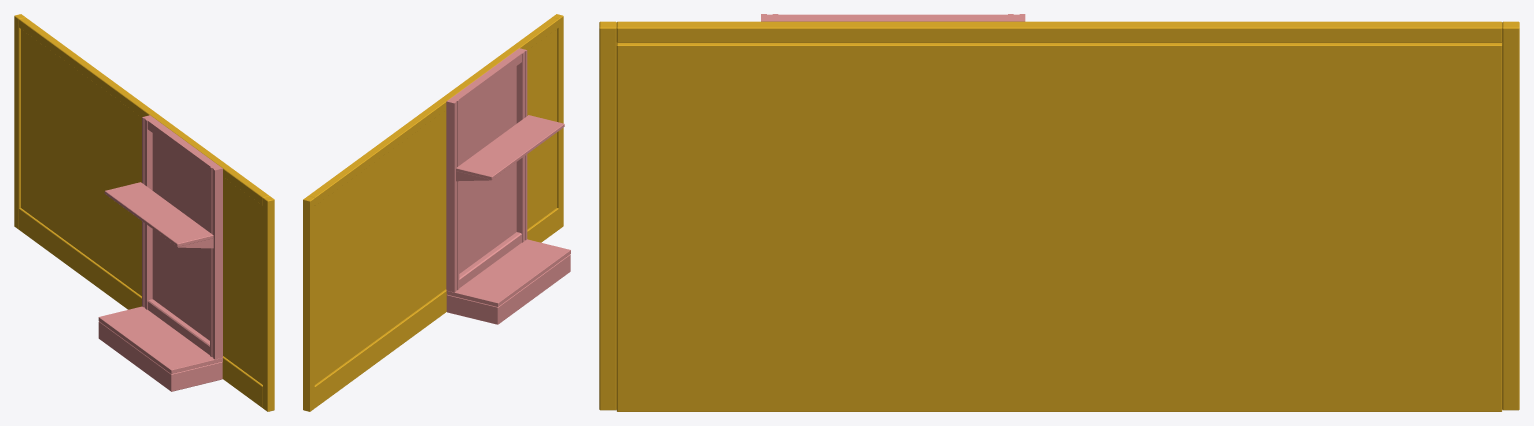
Rendered from shelfB.fbx.
3 renders of one model, left to right at view 1: azimuth 30°, elevation 25°; view 2: azimuth 150°, elevation 25°; view 3: azimuth 270°, elevation 25°, orthographic. The views are drawn at different scales.
Parts seen in each view (by area): view 1: shelfB; view 2: shelfB; view 3: shelfB.
Boxes of the visible parts, x1,y1,x2,y2 form: shelfB: (14, 14, 274, 411); shelfB: (303, 14, 570, 411); shelfB: (599, 14, 1519, 411).
Bounding box in the file's own units: 46.67 × 154 × 336.
